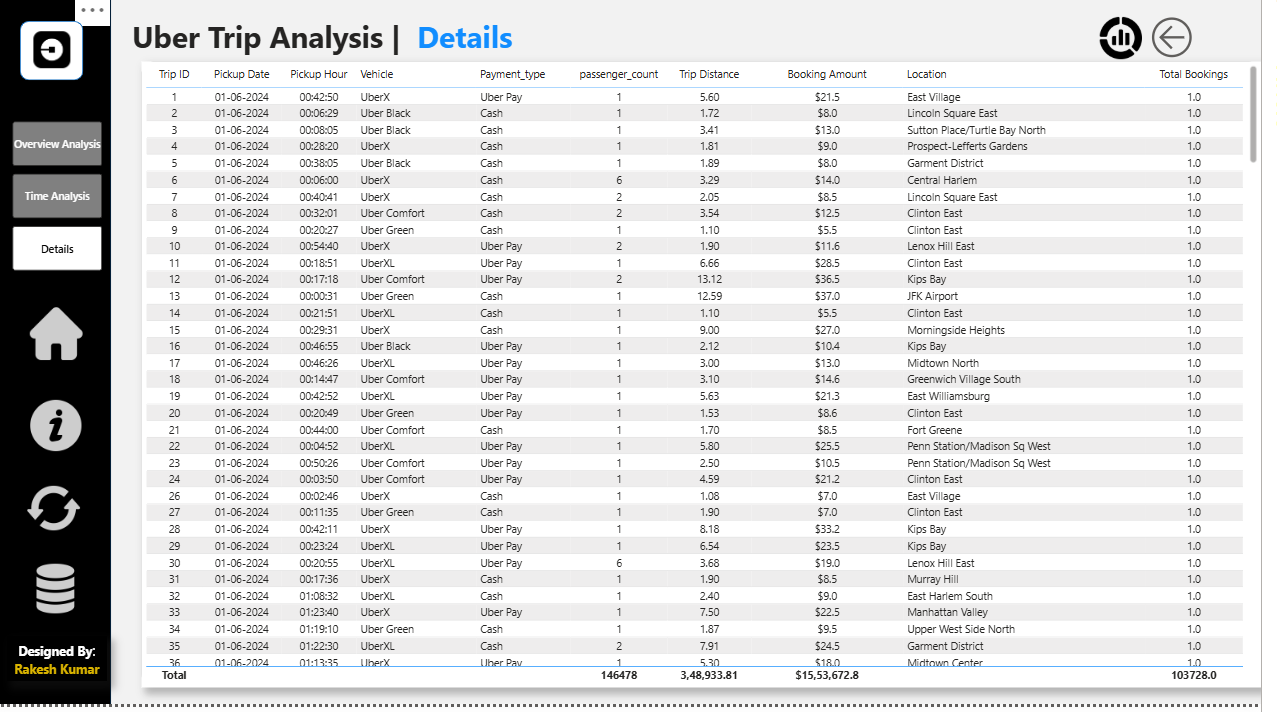

Layout of this report page (visuals, bound fields, positions):
{"tool":"powerbi","page":{"name":"Details","canvas":[1600,900],"ordinal":2},"visuals":[{"type":"shape","box":[0,0,149.5,901],"z":0},{"type":"textbox","box":[170.1,26,711,63.8],"z":1000},{"type":"shape","box":[186.6,89.8,1412.6,789],"z":2000},{"type":"tableEx","fields":{"Values":["Trip Details.Trip ID","Trip Details.Pickup Date","Trip Details.Pickup Hour","Trip Details.Vehicle","Trip Details.Payment_type","Sum(Trip Details.passenger_count)","Trip Details.Total Trip Distance measure","Trip Details.Total Booking Amount","Location Table.Location","Trip Details.Total Bookings"]},"box":[186.6,89.8,1412.6,789],"z":3000},{"type":"actionButton","box":[1456,27.4,63.9,63.9],"z":4000},{"type":"image","box":[1392,21.9,63.9,73.1],"z":5000},{"type":"pageNavigator","box":[23.7,164.4,113.3,188.2],"z":6000},{"type":"group","id":"g1","title":"Group 1","box":[34.9,37.3,79.7,74.7],"z":7000},{"type":"textbox","box":[17.4,814.1,127,57.3],"z":7001},{"type":"image","box":[40.2,392.8,80.4,76.7],"z":7002},{"type":"image","box":[42,507.9,74.9,82.2],"z":7003},{"type":"image","box":[38.4,604.7,76.7,96.8],"z":7004},{"type":"image","box":[11,717.9,135.2,73.1],"z":7005},{"type":"shape","box":[34.9,37.3,79.7,74.7],"z":33000,"group":"g1"},{"type":"image","box":[42.4,44.8,64.7,57.3],"z":34000,"group":"g1"}]}

Visuals, with their boxes on the page's 1600x900 design canvas (x1, y1, x2, y2). These are canvas units, not pixel positions in the 1277x712 screenshot, which may show the page scaled, cropped or inside an application window:
shape: (0,0,150,901)
textbox: (170,26,881,90)
shape: (187,90,1599,879)
tableEx - Trip Details.Trip ID x Trip Details.Pickup Date: (187,90,1599,879)
actionButton: (1456,27,1520,91)
image: (1392,22,1456,95)
pageNavigator: (24,164,137,353)
"Group 1" group: (35,37,115,112)
textbox: (17,814,144,871)
image: (40,393,121,470)
image: (42,508,117,590)
image: (38,605,115,702)
image: (11,718,146,791)
shape: (35,37,115,112)
image: (42,45,107,102)
